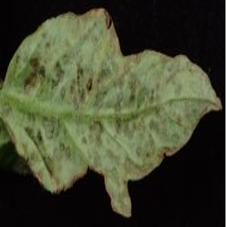Bacterial Spot: (0, 6, 221, 217)
